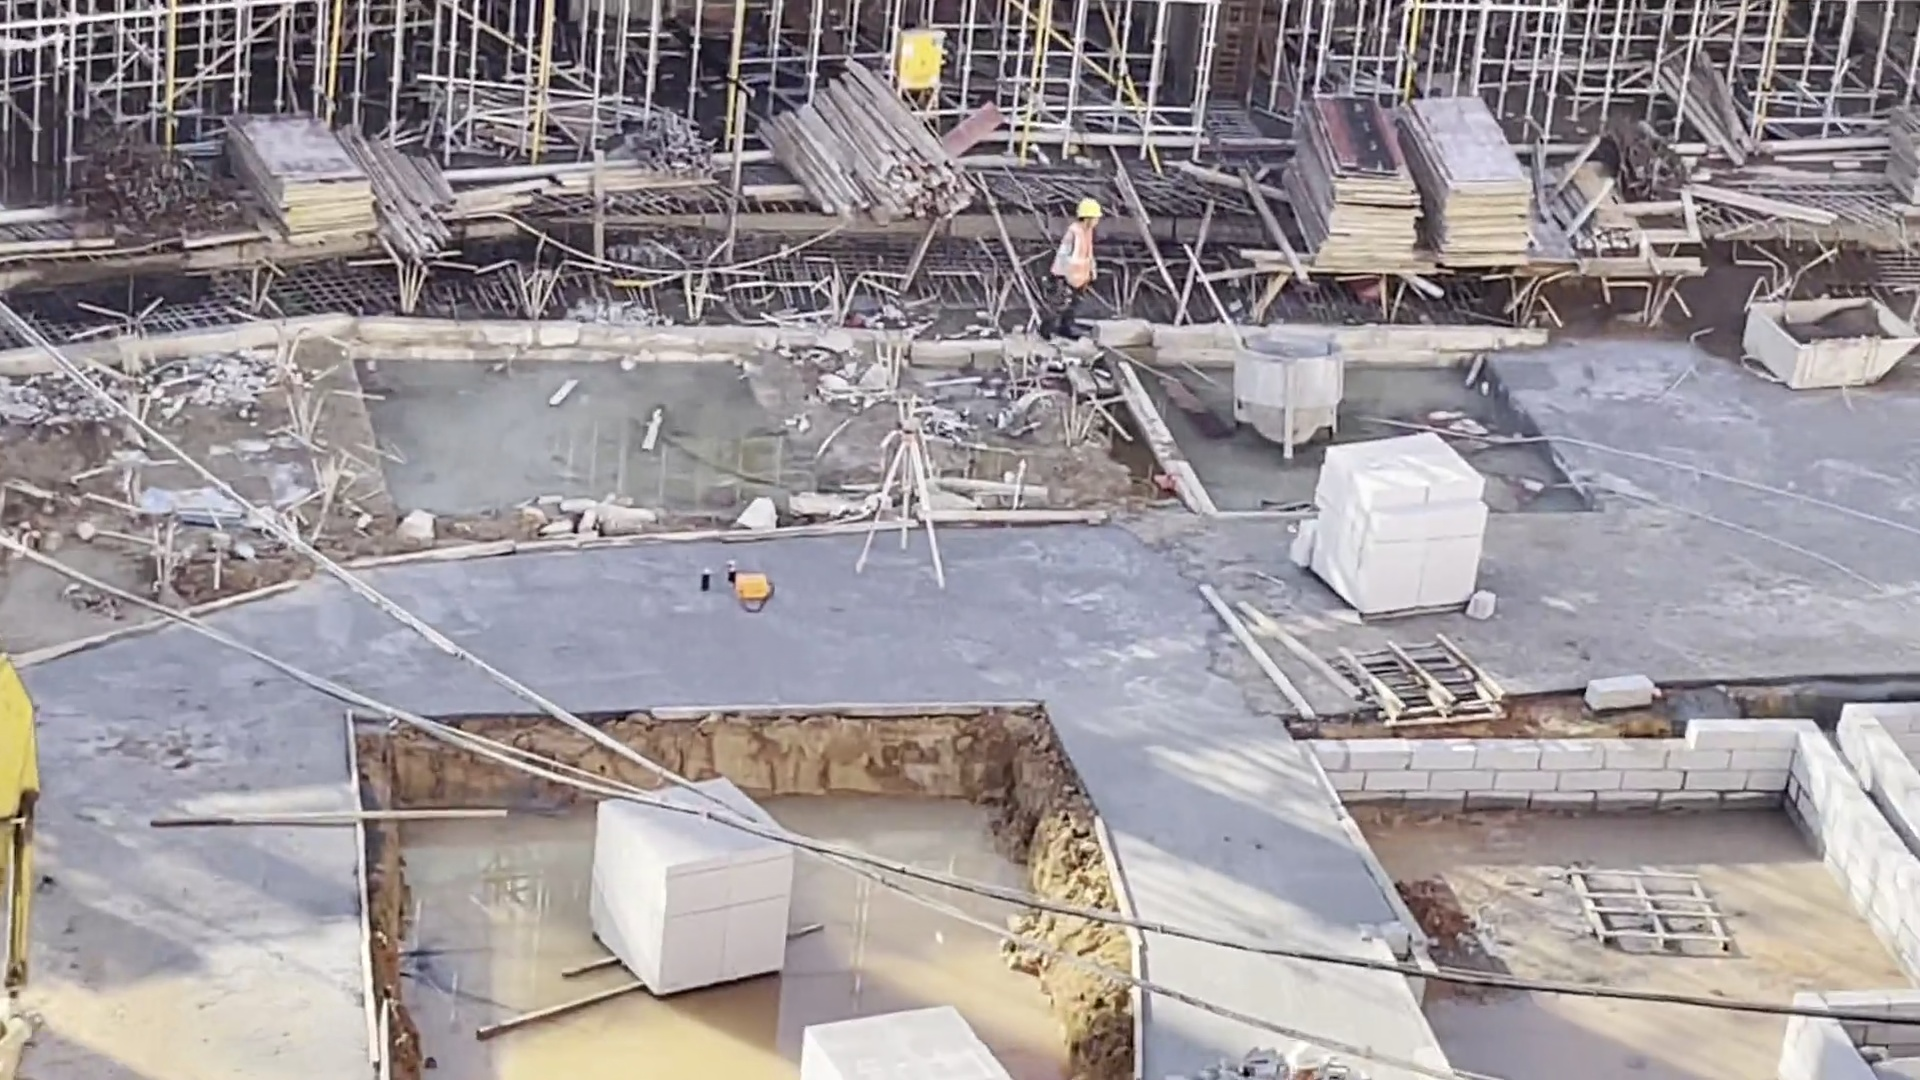board: (1277, 91, 1426, 272), (215, 104, 386, 249), (1395, 95, 1538, 268)
brick: (587, 801, 794, 1002), (1286, 427, 1486, 615), (793, 993, 1013, 1080)
ebox: (903, 24, 955, 94)
helmet: (1076, 196, 1104, 222)
hopper: (1730, 294, 1917, 401), (1230, 326, 1343, 449)
person: (1032, 195, 1104, 344)
vest: (1051, 222, 1095, 292)
wood: (759, 57, 977, 230), (373, 124, 467, 275)
